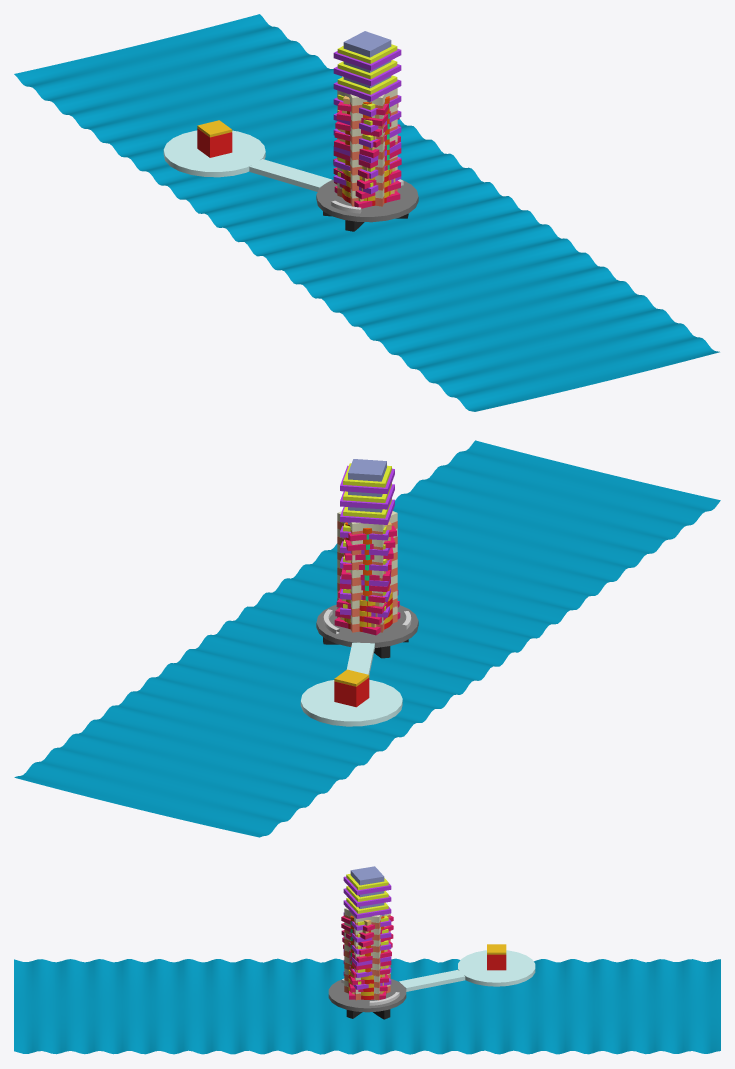
File: tower-4-cyl-3.fbx
3 renders of one model, top to bottom at view 1: azimuth 30°, elevation 25°; view 2: azimuth 150°, elevation 25°; view 3: azimuth 270°, elevation 25°, orthographic. The views are drawn at different scales.
Parts seen in each view (by area): view 1: Plane001, Cylinder005, Cylinder004, platform001, tower-428, Box001; view 2: Plane001, Cylinder005, Cylinder004, tower-428, Box001, platform001; view 3: Plane001, Cylinder005, Cylinder004, platform001, tower-428, Box001.
Part boxes in pixels (left/top/right/bottom): Plane001: left=14, top=14, right=719, bottom=411; Cylinder005: left=163, top=130, right=265, bottom=177; Cylinder004: left=316, top=179, right=418, bottom=222; platform001: left=249, top=159, right=331, bottom=191; tower-428: left=343, top=31, right=391, bottom=57; Box001: left=197, top=128, right=232, bottom=157; Plane001: left=14, top=440, right=720, bottom=837; Cylinder005: left=300, top=680, right=402, bottom=726; Cylinder004: left=316, top=604, right=418, bottom=647; tower-428: left=348, top=459, right=386, bottom=481; Box001: left=334, top=678, right=369, bottom=707; platform001: left=346, top=642, right=374, bottom=674; Plane001: left=14, top=958, right=720, bottom=1054; Cylinder005: left=458, top=950, right=535, bottom=986; Cylinder004: left=328, top=979, right=406, bottom=1012; platform001: left=398, top=970, right=465, bottom=991; tower-428: left=350, top=866, right=384, bottom=885; Box001: left=487, top=954, right=506, bottom=970.
Size of the model in its own units: 200 by 143 by 650.
